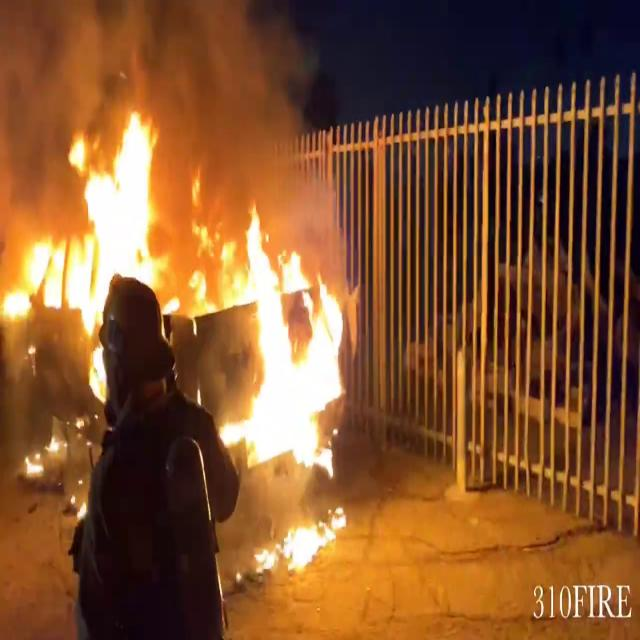Fire: (4, 109, 172, 358), (220, 203, 354, 479), (21, 430, 66, 482)
Smoke: (127, 0, 340, 211)
